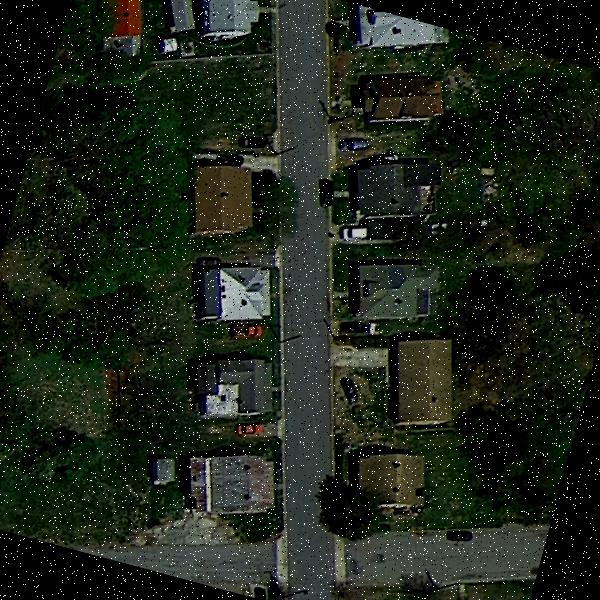Buildings: (163, 453, 278, 536), (344, 247, 447, 332), (178, 338, 271, 426), (334, 2, 447, 74), (177, 152, 266, 241), (182, 244, 274, 326), (352, 141, 447, 218), (358, 66, 447, 136), (398, 348, 459, 434), (349, 450, 435, 508), (196, 0, 275, 43), (103, 0, 160, 49)
